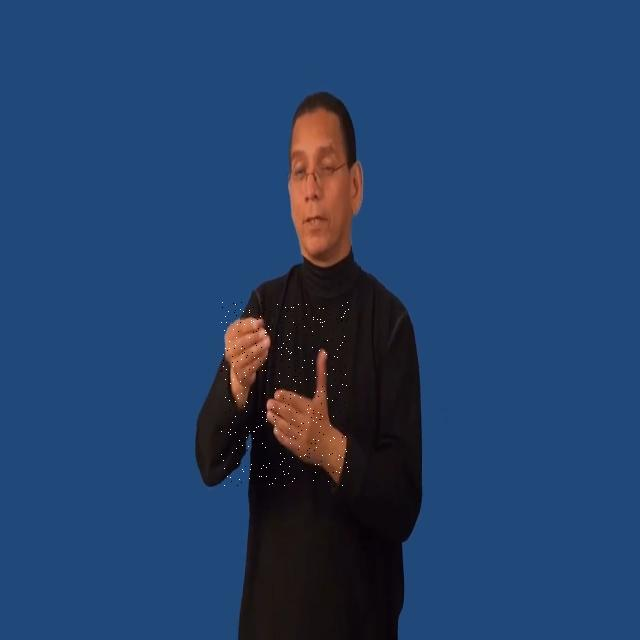coupon: (221, 302, 350, 486)
